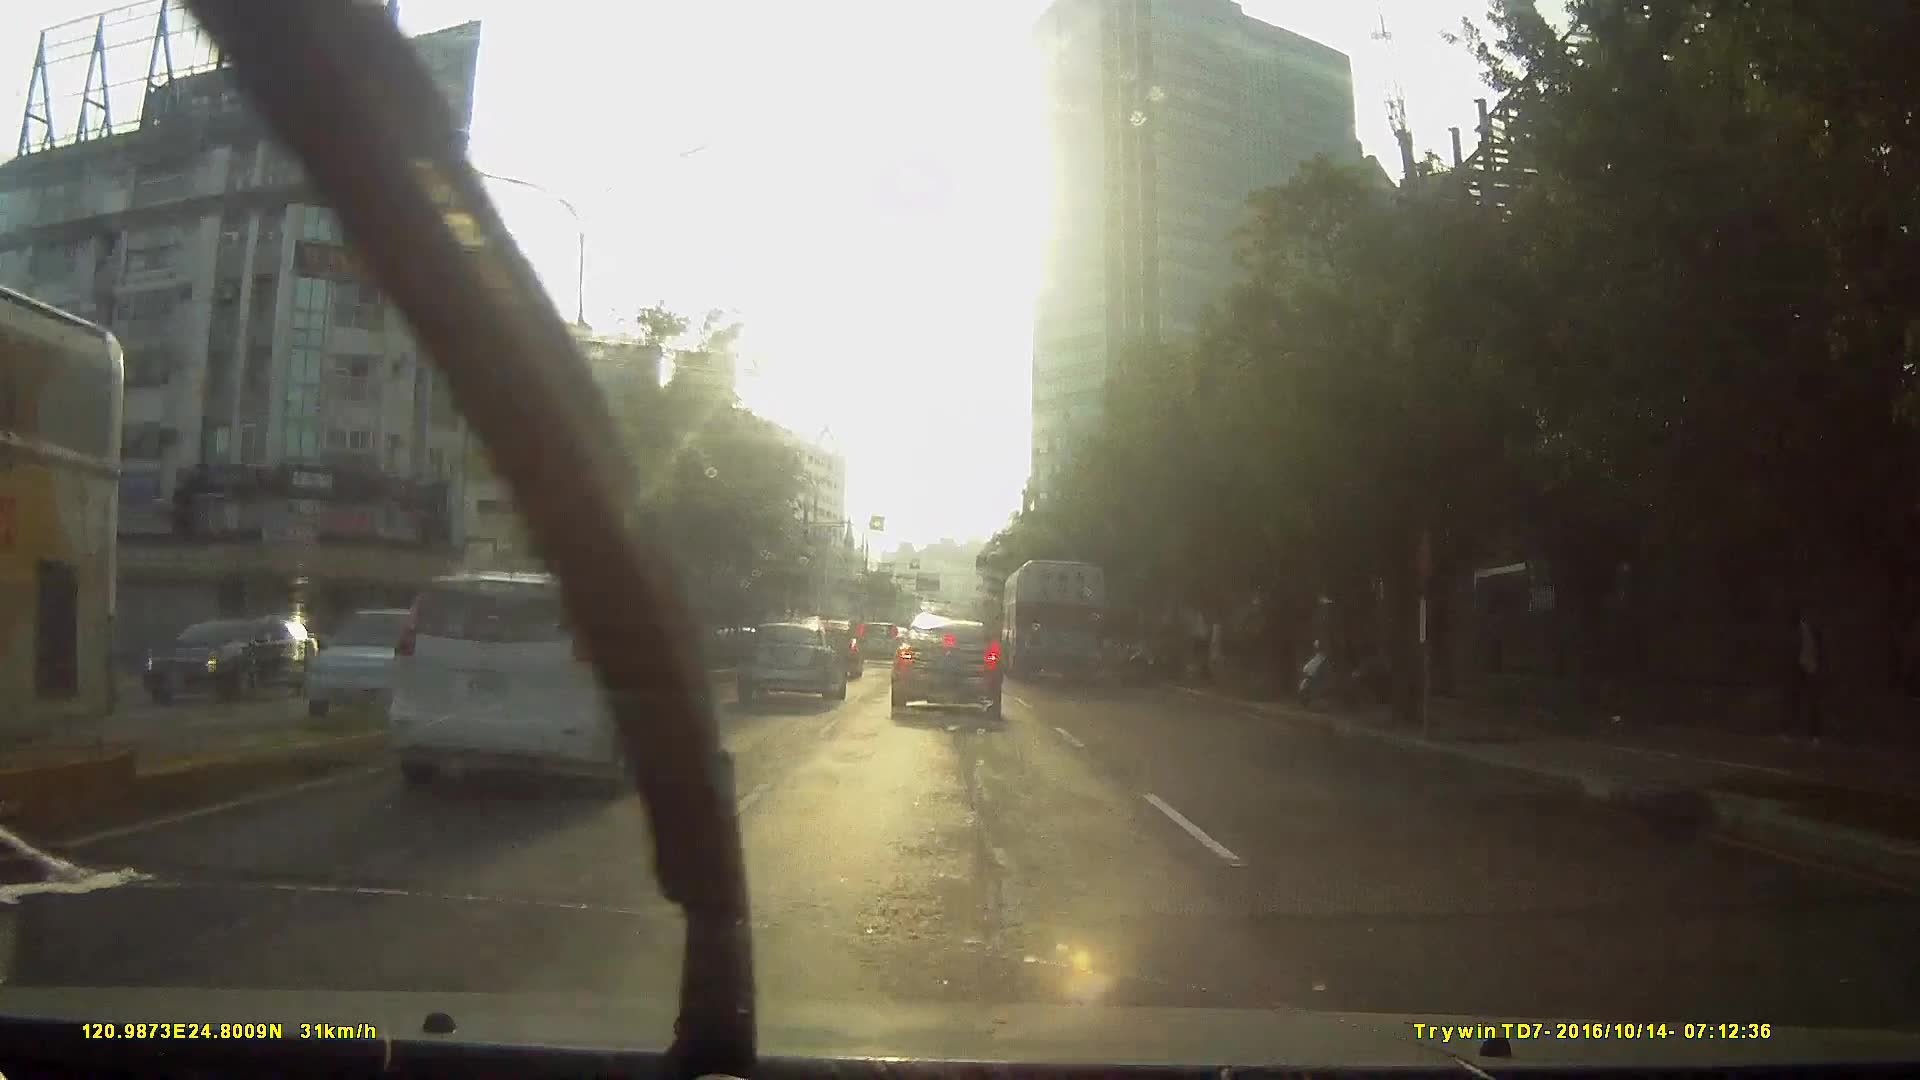pedestrian: (1764, 589, 1839, 753)
vehicle: (250, 556, 684, 868), (384, 562, 683, 789), (287, 600, 484, 724), (138, 612, 330, 705), (1001, 553, 1109, 682), (886, 610, 1002, 716), (730, 615, 841, 700), (852, 615, 901, 664)
